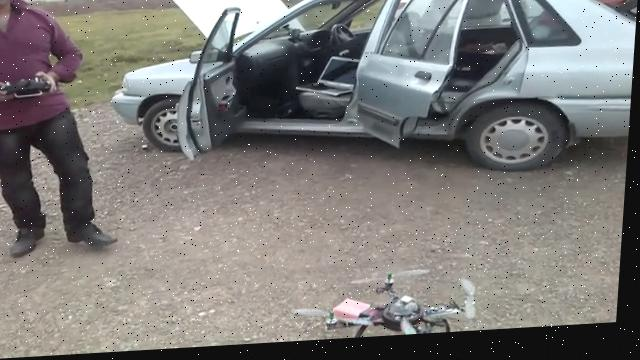drone: (295, 273, 484, 345)
